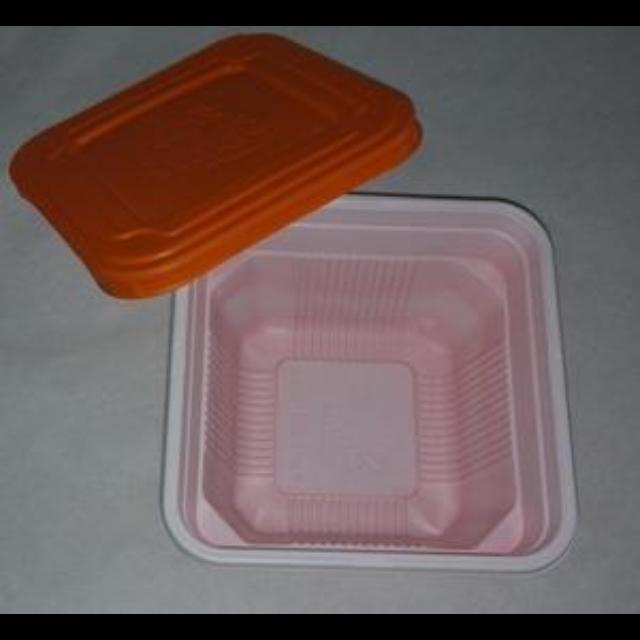plastic_box: (6, 28, 578, 574)
